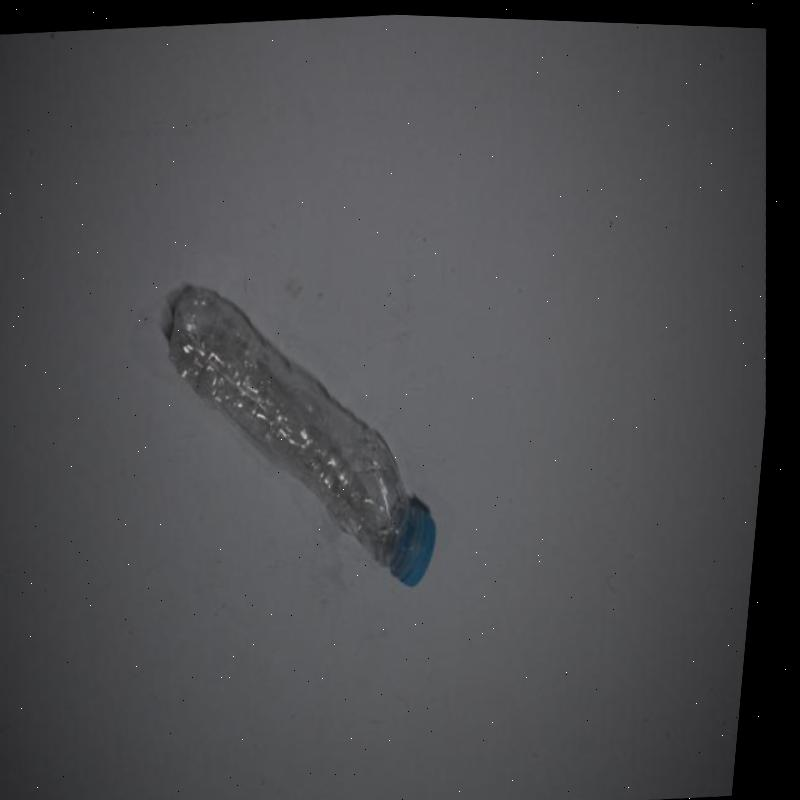botella: (155, 261, 469, 604)
